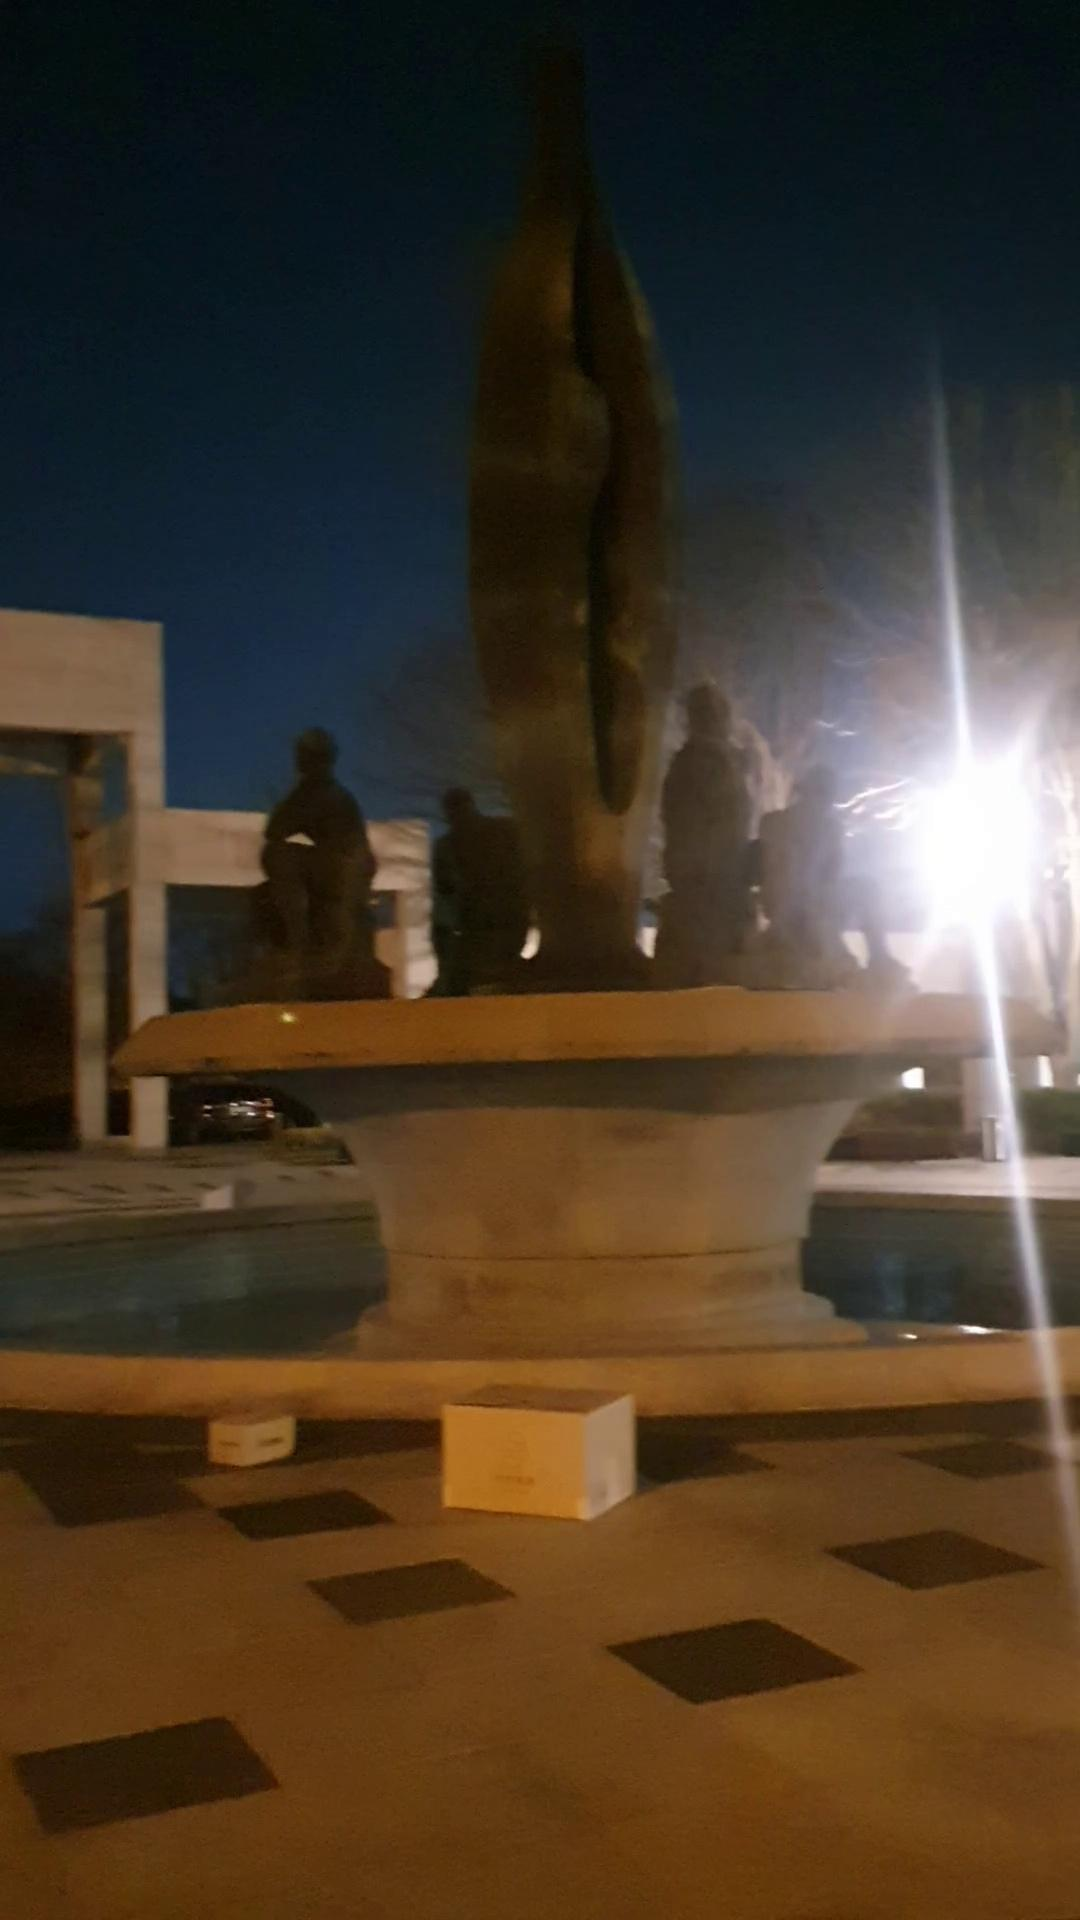Box: (429, 1356, 637, 1530), (200, 1400, 293, 1466)
